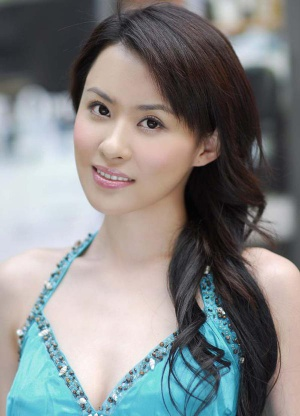female: (62, 2, 262, 263)
